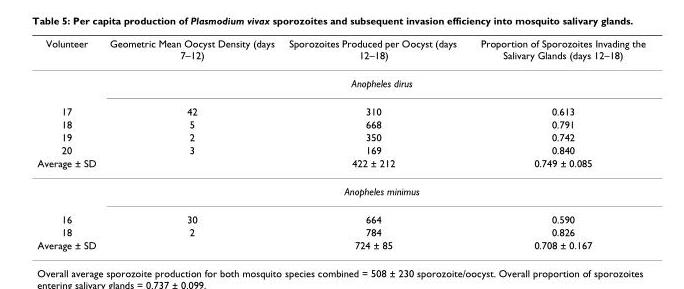table: (36, 37, 644, 250)
table column: (281, 37, 468, 250), (102, 37, 281, 250), (468, 37, 644, 250), (36, 37, 102, 250)
table column header: (36, 37, 644, 68)
table row: (36, 37, 644, 68), (36, 68, 644, 96), (36, 176, 644, 204), (36, 96, 644, 117), (36, 204, 644, 225), (36, 156, 644, 176), (36, 117, 644, 130), (36, 130, 644, 143), (36, 143, 644, 156), (36, 225, 644, 238), (36, 238, 644, 250)
table spanning cell: (102, 68, 644, 96), (102, 176, 644, 204), (36, 156, 102, 204)
